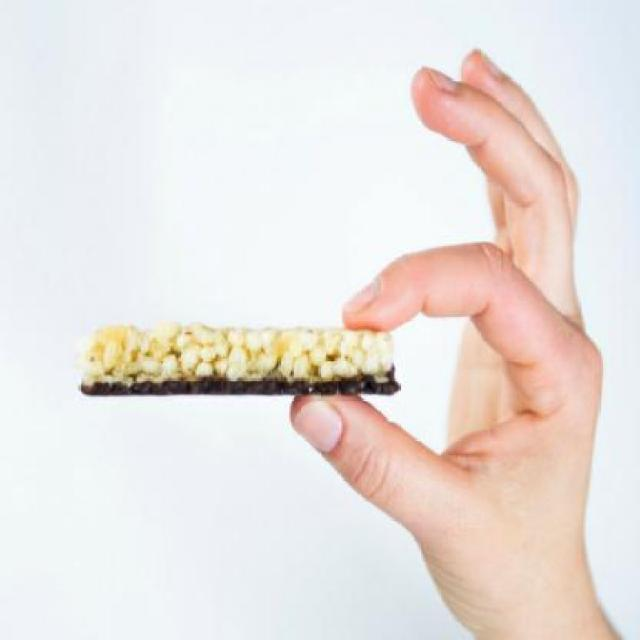Cereal bar packaged: (66, 320, 412, 400)
